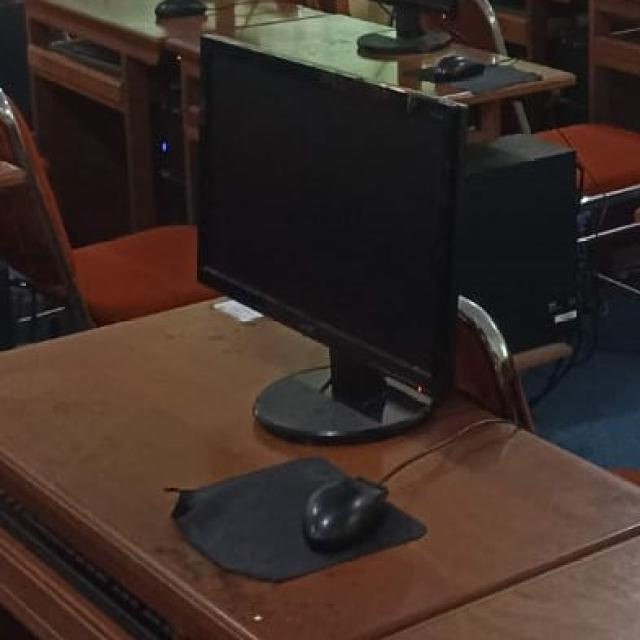offscreen: (199, 38, 465, 369)
